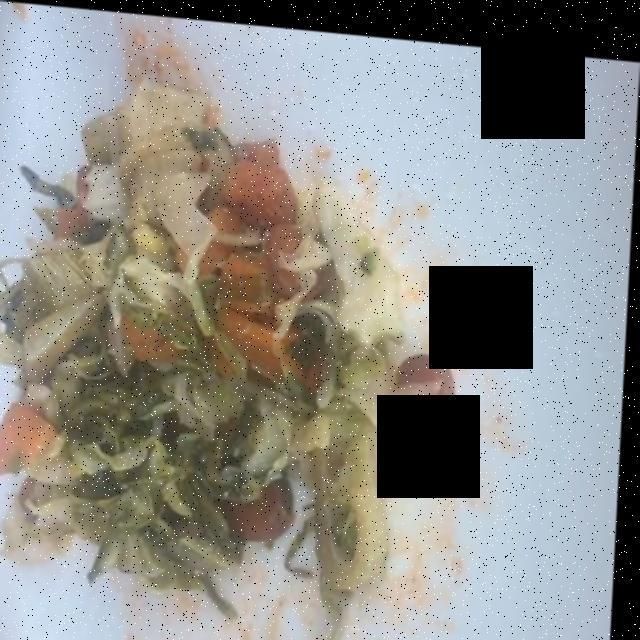mixed-vegetables: (0, 28, 413, 592)
sweet-potato: (90, 126, 297, 410)
